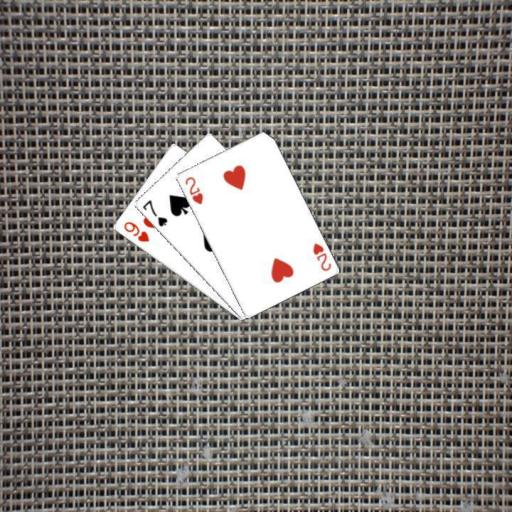card-corner: (138, 197, 168, 228), (120, 218, 151, 244), (309, 240, 332, 272), (182, 174, 204, 206)
